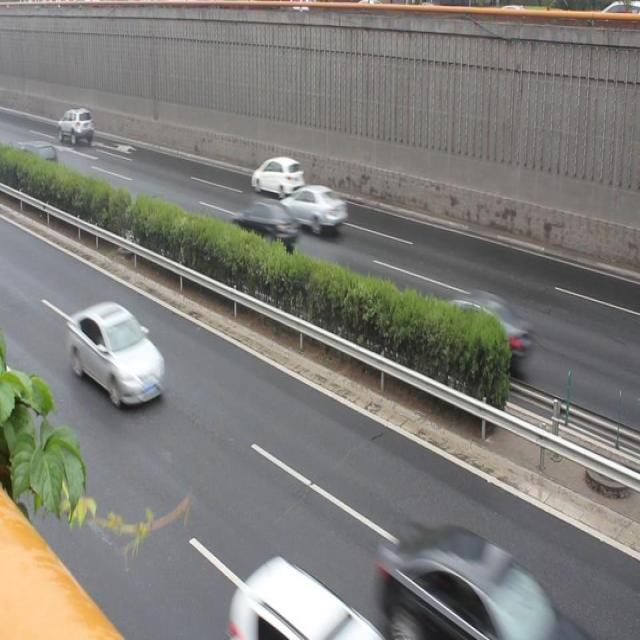car: (379, 511, 571, 640), (231, 557, 384, 640), (67, 303, 164, 413), (433, 282, 534, 369), (282, 183, 348, 238), (232, 198, 294, 255), (248, 152, 301, 202), (15, 136, 59, 180), (56, 107, 94, 143)
